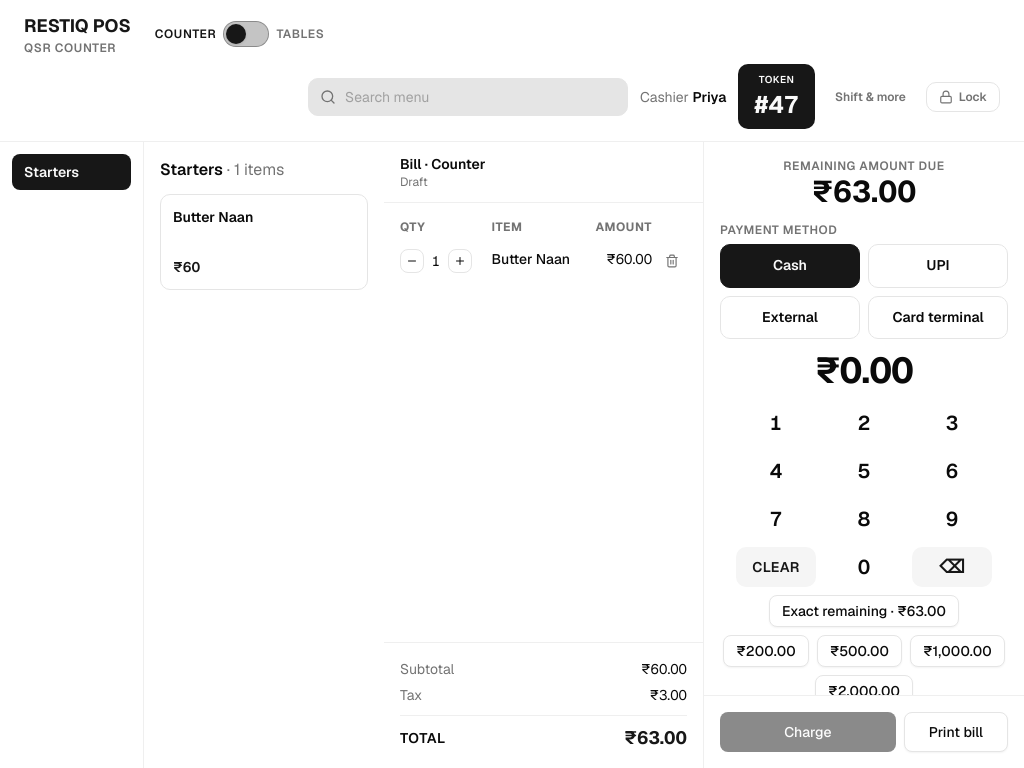
Scenario: CounterView - ring up and settle in one continuous flow › does not send to the kitchen when finalize fails; shows the error and keeps the cart (restiq-web#361)
Click the button with test id "tender-fill-remaining" at (864, 611), box x1=769 y1=595 x2=959 y2=627
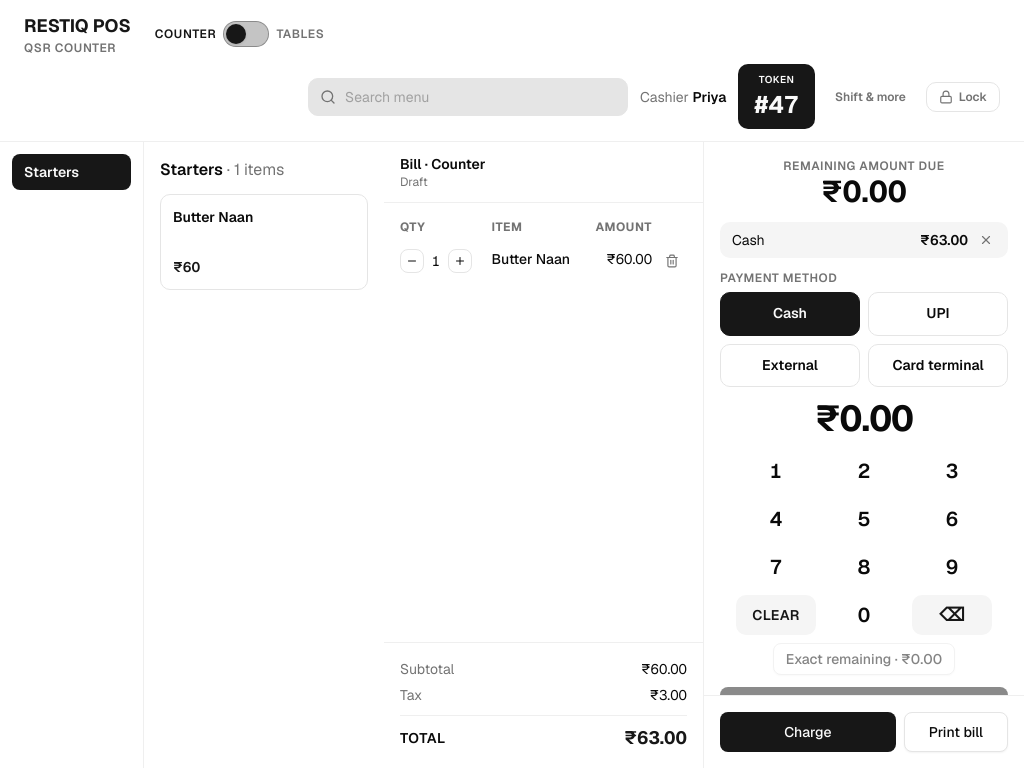
Expected: the button with test id "finalize-bill" is enabled
Click the button with test id "finalize-bill" at (808, 732), box x1=720 y1=712 x2=896 y2=752
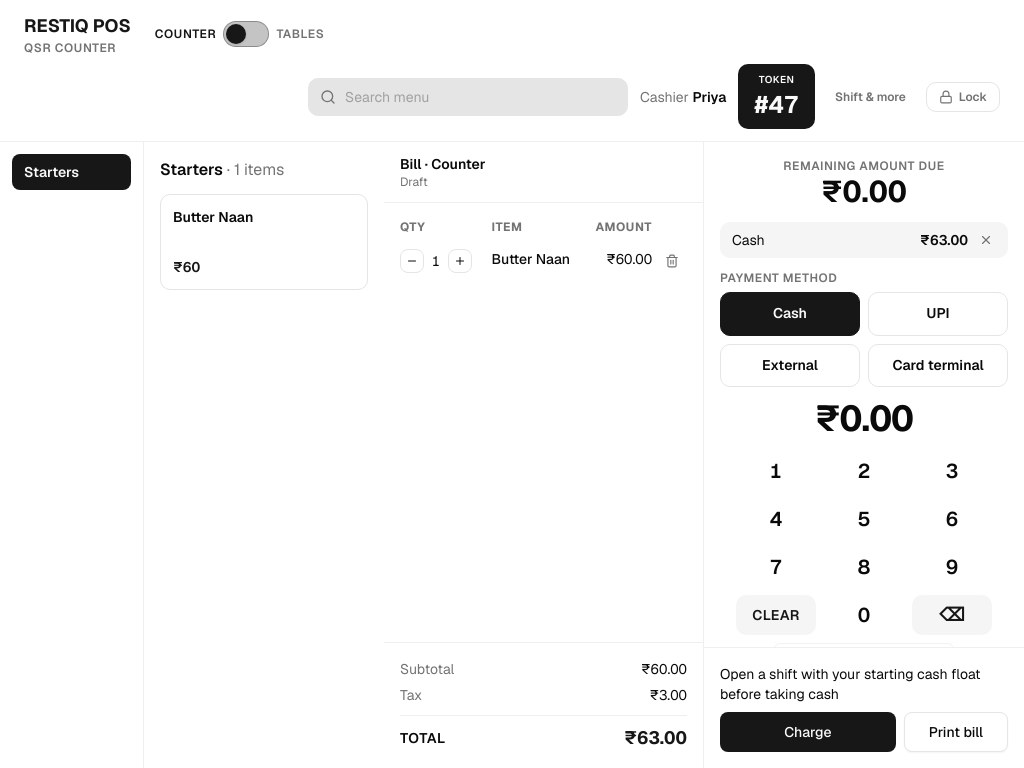
Expected: the row with test id "bill-line-line-1" shows "Butter Naan", x1=492 y1=250 x2=570 y2=268
Expected: the message with test id "finalize-error" shows "Open a shift", x1=720 y1=665 x2=981 y2=703
